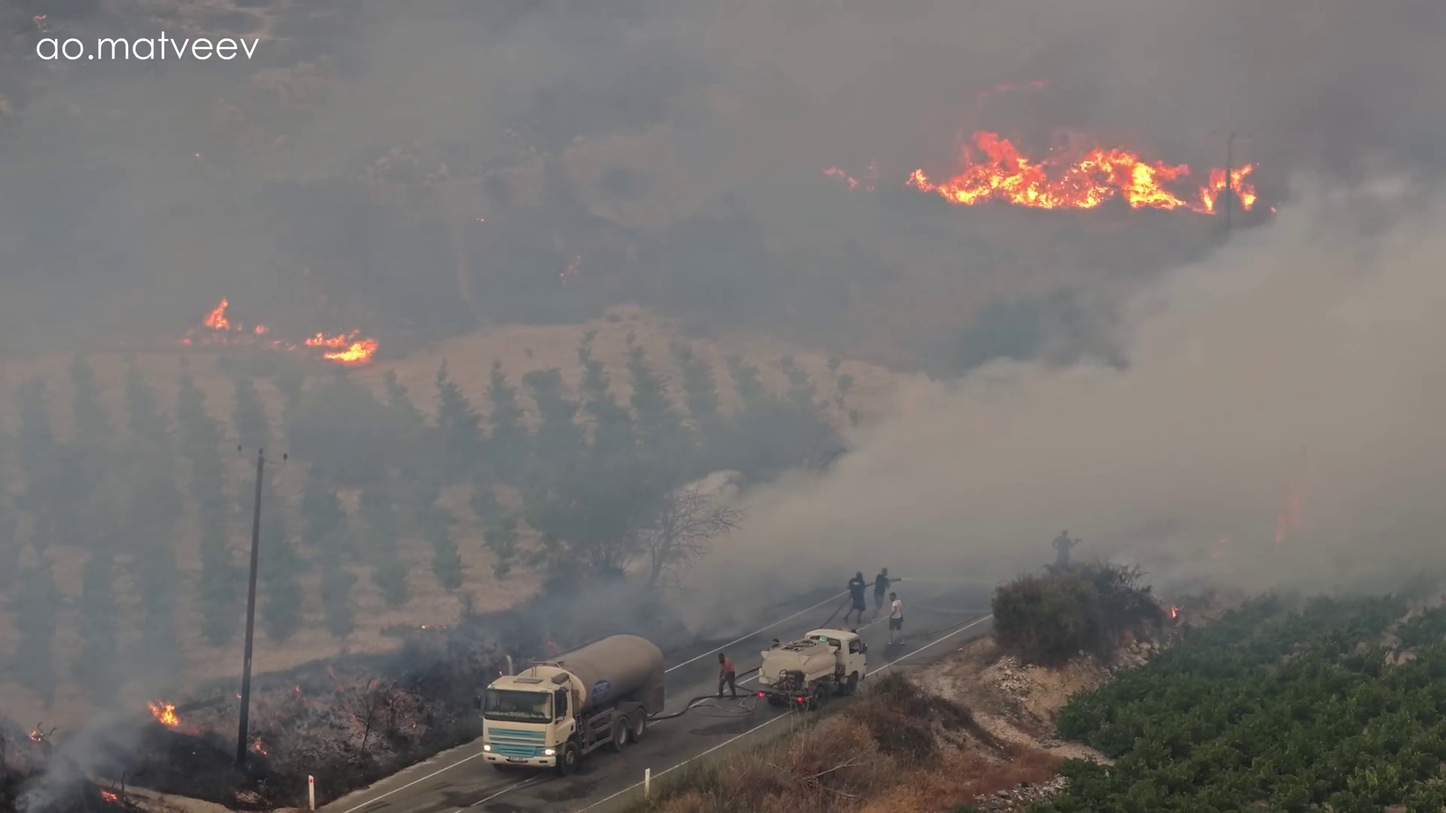forest_fire: (904, 130, 1256, 213), (182, 297, 378, 365), (825, 167, 871, 187), (147, 701, 178, 726), (869, 167, 875, 174)
